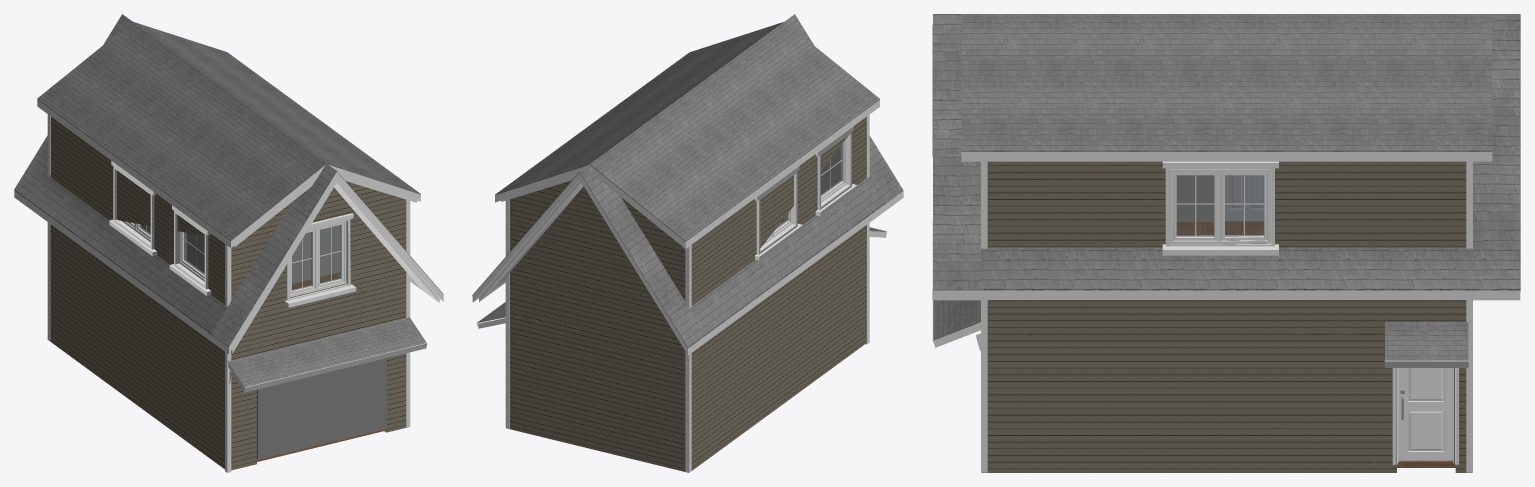
Rendered from SM_AduGarage_Unit.gltf.
The picture shows the model from 3 angles, left to right: view 1: azimuth 30°, elevation 25°; view 2: azimuth 150°, elevation 25°; view 3: azimuth 270°, elevation 25°; orthographic projection. The views are drawn at different scales.
Parts seen in each view (by area): view 1: SM_AduGarage_Unit; view 2: SM_AduGarage_Unit; view 3: SM_AduGarage_Unit.
Part boxes in pixels (x1,y1,x2,y2): SM_AduGarage_Unit: [14, 14, 443, 472]; SM_AduGarage_Unit: [472, 14, 903, 472]; SM_AduGarage_Unit: [932, 14, 1520, 472].
Bounding box in the file's own units: 5.43 × 6.6 × 8.79.
18 materials, 10 textured.
